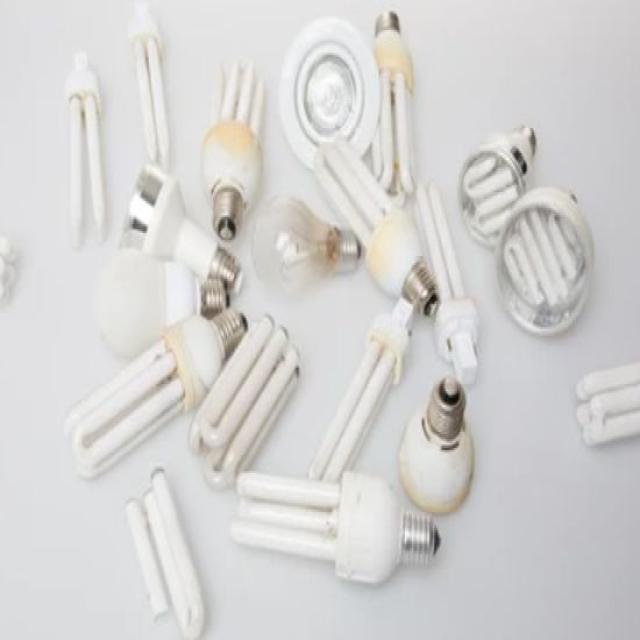electronic: (63, 2, 593, 596), (64, 306, 248, 478), (456, 121, 595, 336), (229, 467, 441, 585), (118, 162, 243, 297), (278, 14, 381, 172), (199, 55, 264, 240), (398, 373, 475, 514), (251, 192, 361, 288), (364, 206, 440, 318), (0, 229, 16, 307)
